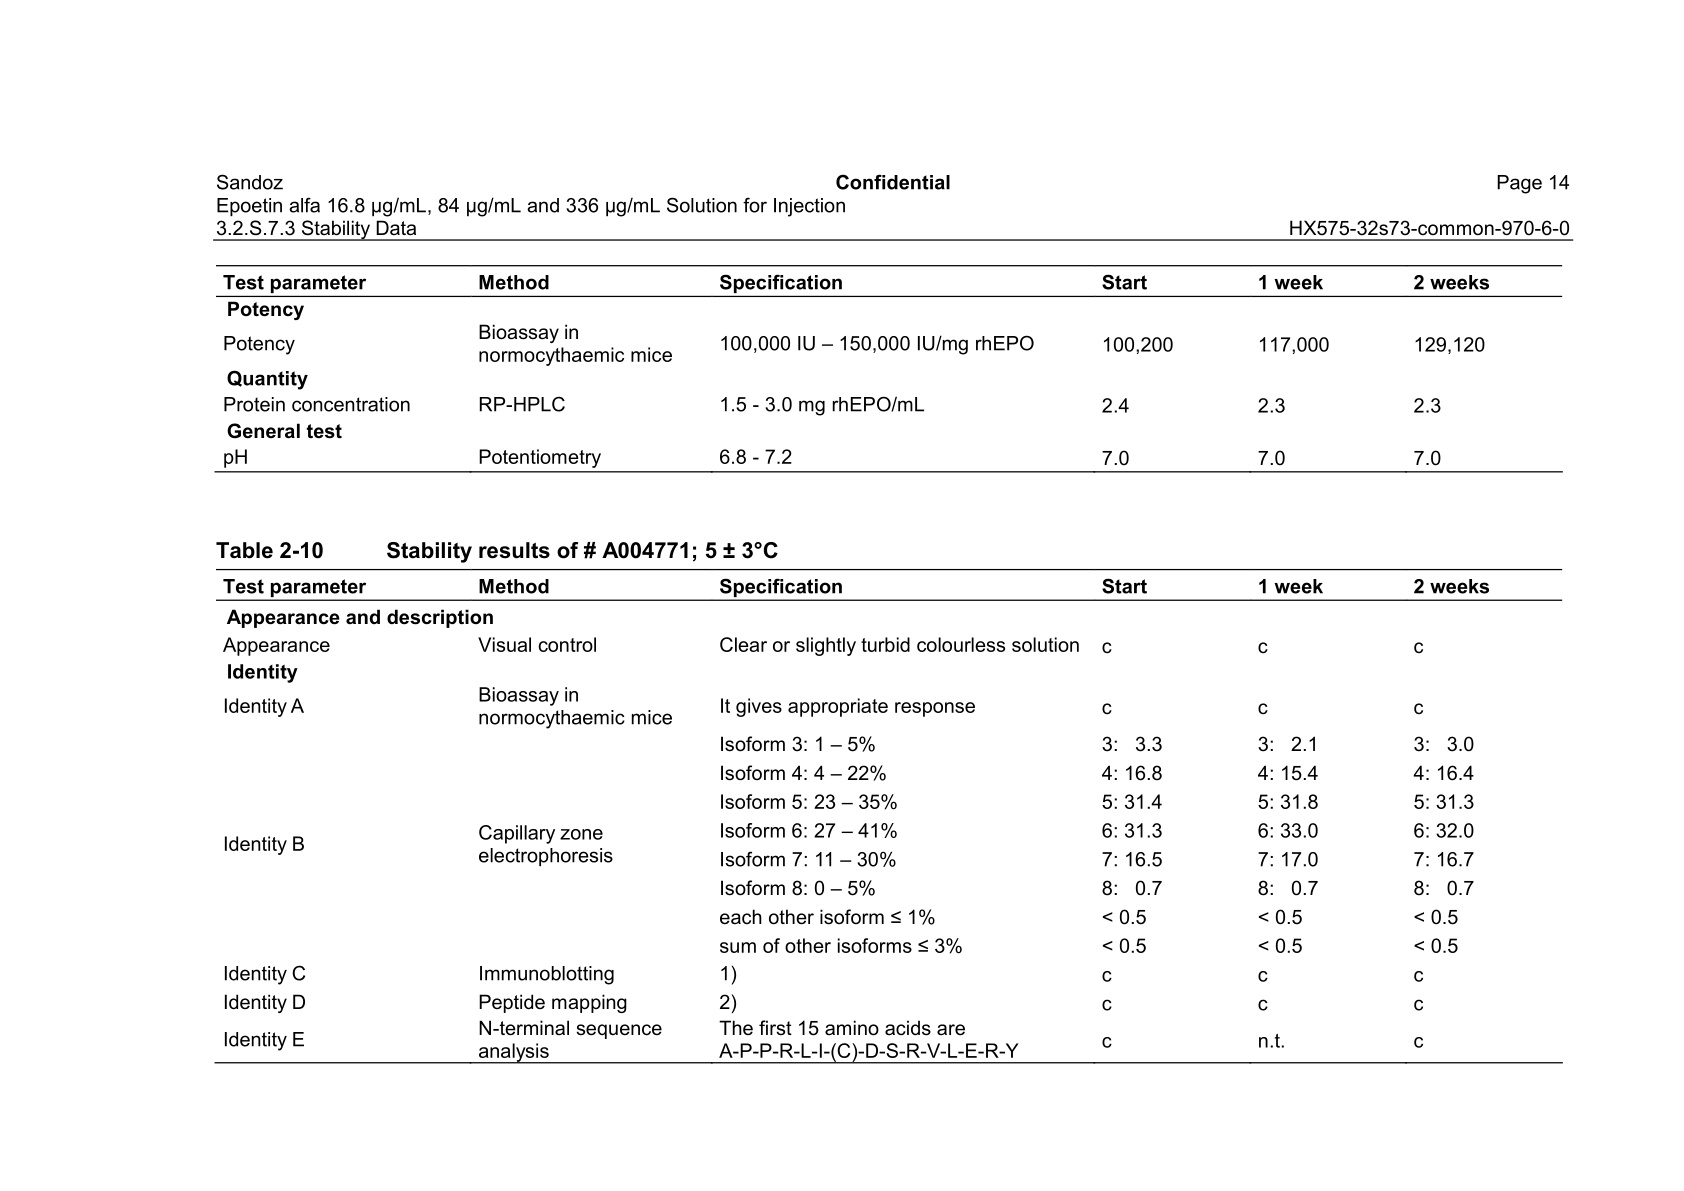partial_lined: (213, 568, 1564, 1065), (214, 264, 1563, 474)
